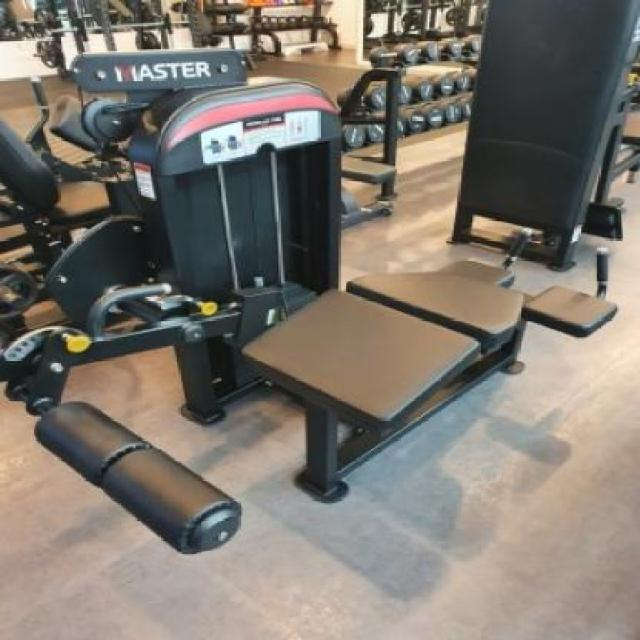reg curl machine: (2, 43, 620, 562)
